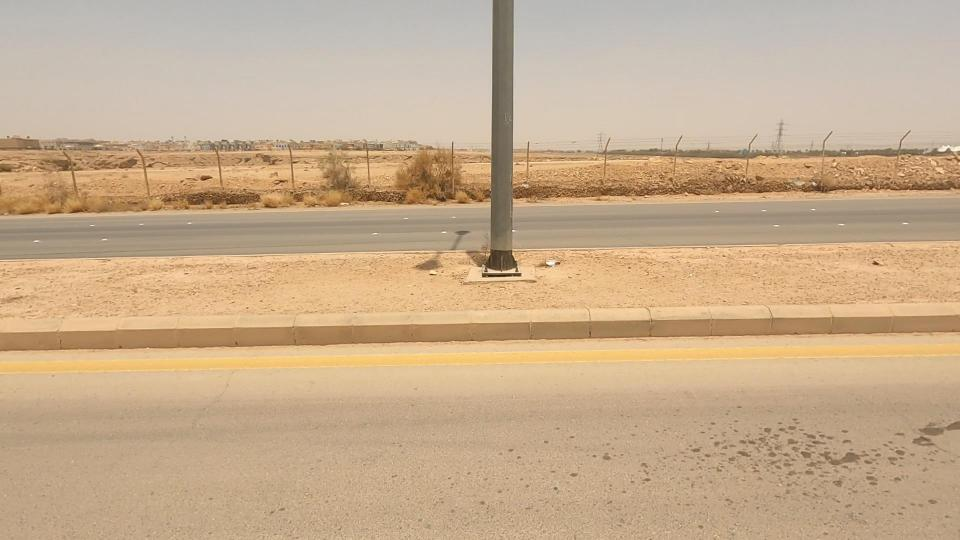CLUTTER_SIDEWALK: (0, 206, 502, 373), (458, 192, 960, 359)
GARBAGE: (513, 234, 584, 289)
